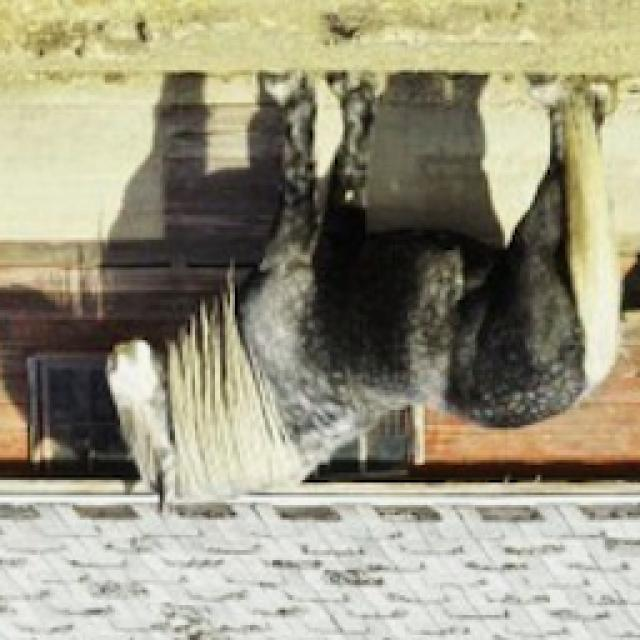Horse: (98, 65, 640, 520)
